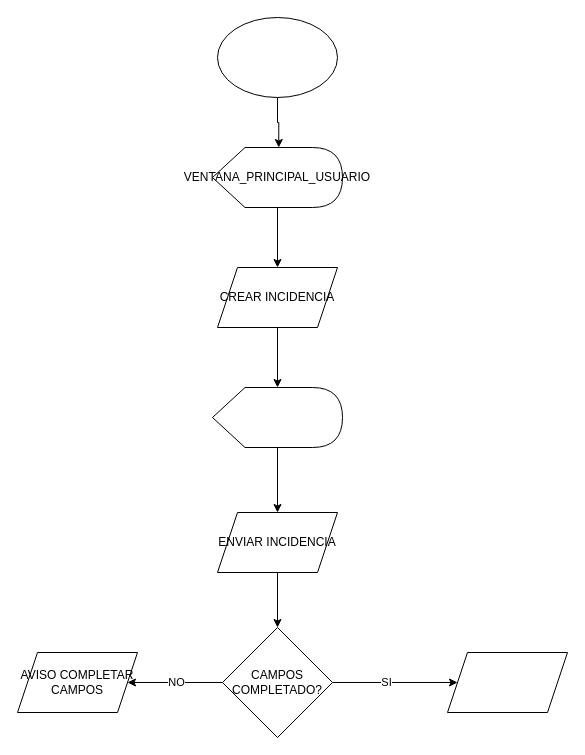
Some shapes in this 585 by 755 pixel diagram are drawn without their labels. Each missing label, with the centre of its shape:
"INICIO" goes at point (277, 57).
"PUBLICAR INCIDENCIA" goes at point (507, 682).
"VENTANA_AGREGARINCIDENCIA_USUARIO" goes at point (277, 417).
